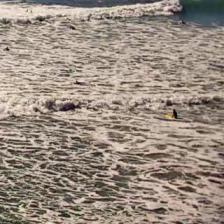surfer: (172, 109, 178, 119), (74, 80, 84, 85), (180, 20, 187, 26), (69, 25, 75, 30), (4, 47, 10, 52), (97, 0, 105, 3)
